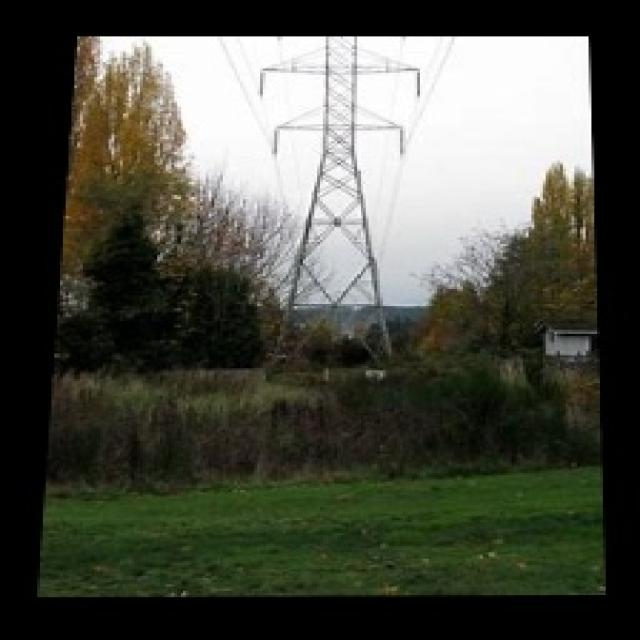utility poles: (232, 223, 322, 369), (350, 302, 454, 383)
